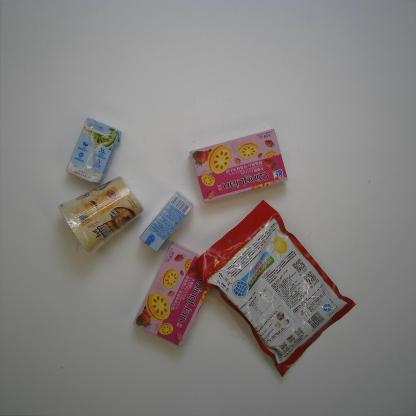Dessert: (131, 240, 221, 348), (187, 125, 288, 204)
Instant Drink: (184, 198, 358, 380)
Instant Noodles: (56, 174, 145, 258)
Milk: (63, 116, 123, 187), (138, 190, 195, 254)
